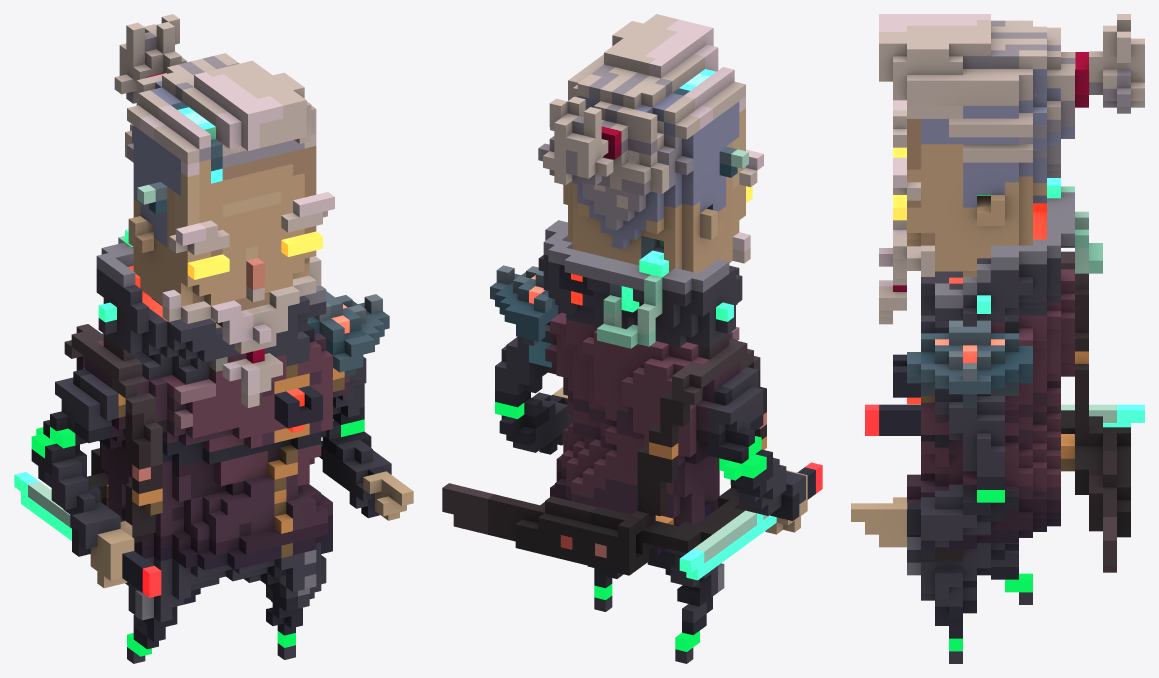
File: samurai-mapped.glb
3 renders of one model, left to right at view 1: azimuth 30°, elevation 25°; view 2: azimuth 150°, elevation 25°; view 3: azimuth 270°, elevation 25°, orthographic. The views are drawn at different scales.
Visible parts, largest first — view 1: BODY, HEAD, HAIR, FACE, REF-ACC-CYBER-COLLAR, SCABBARD, REF-ACC-PAULDRON, REF-ITM-GLOW-SWORD, REF-ACC-FRONT-CREST, REF-MOD-HEAD; view 2: BODY, HAIR, SCABBARD, HEAD, REF-ACC-CYBER-COLLAR, REF-ACC-PAULDRON, REF-ITM-GLOW-SWORD, FACE, REF-MOD-HEAD; view 3: BODY, HAIR, HEAD, REF-ACC-CYBER-COLLAR, SCABBARD, REF-ACC-PAULDRON, FACE, REF-ITM-GLOW-SWORD, REF-ACC-FRONT-CREST.
Part boxes in pixels (left/top/right/bottom): BODY: left=31, top=319, right=413, bottom=663; HEAD: left=127, top=124, right=316, bottom=328; HAIR: left=114, top=14, right=316, bottom=164; FACE: left=162, top=192, right=334, bottom=407; REF-ACC-CYBER-COLLAR: left=96, top=229, right=326, bottom=362; SCABBARD: left=64, top=324, right=162, bottom=543; REF-ACC-PAULDRON: left=307, top=291, right=389, bottom=376; REF-ITM-GLOW-SWORD: left=14, top=472, right=161, bottom=597; REF-ACC-FRONT-CREST: left=274, top=385, right=322, bottom=432; REF-MOD-HEAD: left=137, top=102, right=222, bottom=213; BODY: left=495, top=305, right=807, bottom=663; HAIR: left=538, top=14, right=745, bottom=195; SCABBARD: left=442, top=333, right=766, bottom=575; HEAD: left=563, top=96, right=745, bottom=273; REF-ACC-CYBER-COLLAR: left=538, top=220, right=742, bottom=348; REF-ACC-PAULDRON: left=490, top=265, right=558, bottom=345; REF-ITM-GLOW-SWORD: left=679, top=462, right=822, bottom=580; FACE: left=732, top=149, right=763, bottom=263; REF-MOD-HEAD: left=673, top=69, right=748, bottom=177; BODY: left=851, top=269, right=1074, bottom=663; HAIR: left=879, top=14, right=1144, bottom=162; HEAD: left=907, top=94, right=1060, bottom=276; REF-ACC-CYBER-COLLAR: left=921, top=178, right=1102, bottom=326; SCABBARD: left=1061, top=251, right=1130, bottom=572; REF-ACC-PAULDRON: left=907, top=320, right=1032, bottom=407; FACE: left=879, top=100, right=934, bottom=324; REF-ITM-GLOW-SWORD: left=865, top=404, right=1144, bottom=435; REF-ACC-FRONT-CREST: left=893, top=354, right=920, bottom=404.
Bounding box in the file's own units: 2.6 × 4.8 × 2.1.
20 materials, 20 textured.
